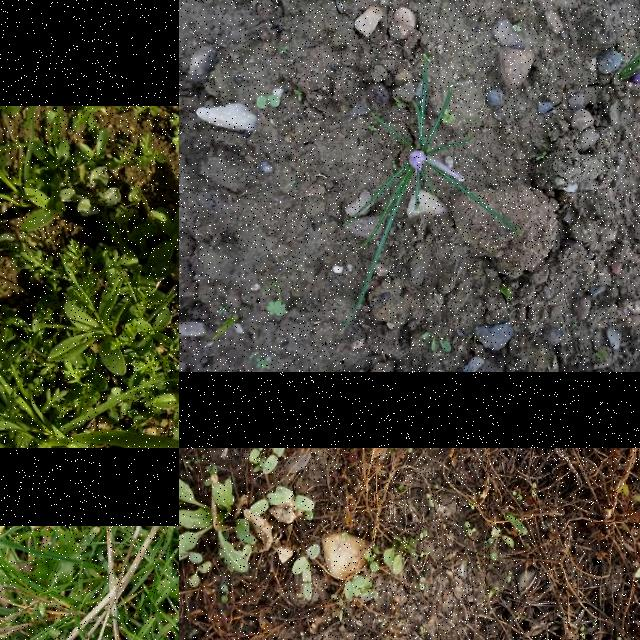flower: (408, 151, 426, 171), (628, 64, 640, 83)
